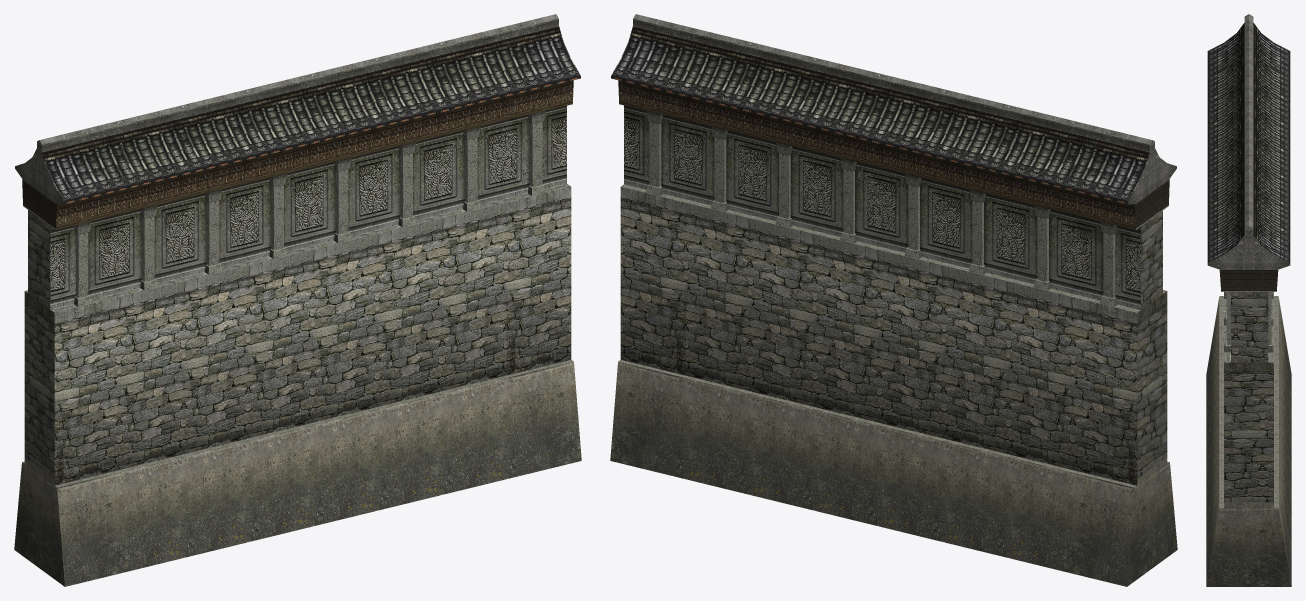
Rendered from b1-middledam-02.fbx.
The picture shows the model from 3 angles, left to right: view 1: azimuth 30°, elevation 25°; view 2: azimuth 150°, elevation 25°; view 3: azimuth 270°, elevation 25°; orthographic projection. The views are drawn at different scales.
Parts seen in each view (by area): view 1: b1-middledam-02; view 2: b1-middledam-02; view 3: b1-middledam-02.
Boxes of the visible parts, x1,y1,x2,y2 form: b1-middledam-02: [14, 14, 581, 586]; b1-middledam-02: [610, 14, 1177, 586]; b1-middledam-02: [1206, 14, 1291, 586].
Size of the model in its own units: 10 by 7.92 by 1.7.
